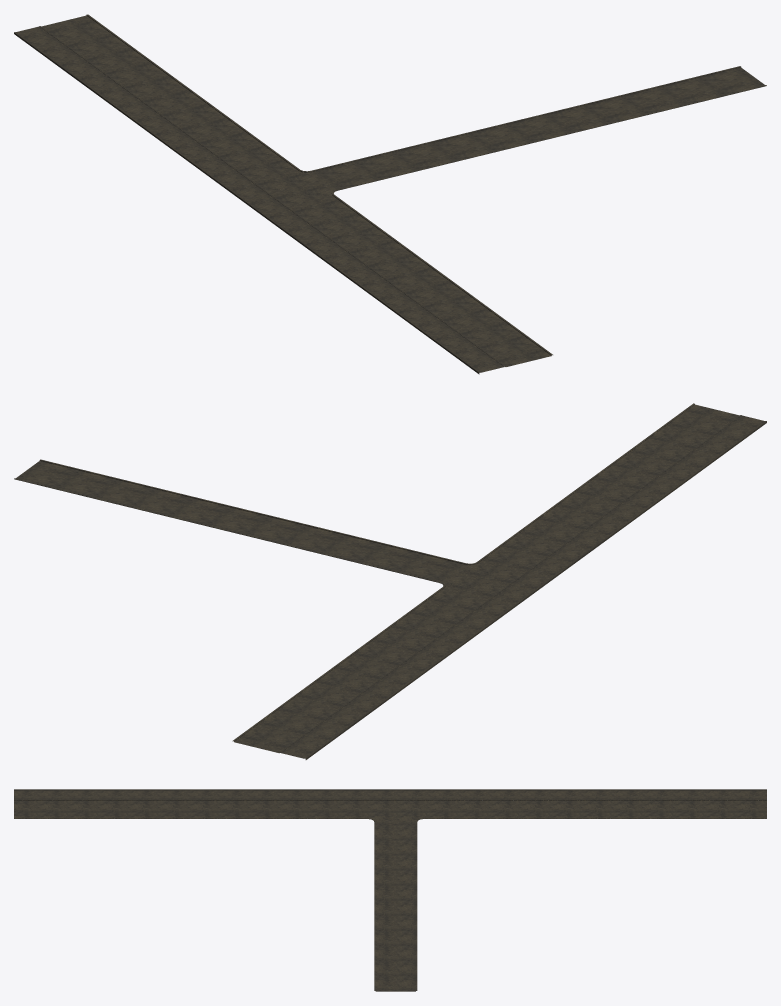
Rendered from road.fbx.
The picture shows the model from 3 angles, top to bottom: view 1: azimuth 30°, elevation 25°; view 2: azimuth 150°, elevation 25°; view 3: azimuth 270°, elevation 25°; orthographic projection. The views are drawn at different scales.
Parts seen in each view (by area): view 1: road; view 2: road; view 3: road.
Boxes of the visible parts, x1,y1,x2,y2 form: road: [14, 14, 766, 374]; road: [14, 403, 766, 759]; road: [14, 789, 766, 991].
Size of the model in its own units: 12194 by 39.85 by 19261.
1 material, 1 textured.
